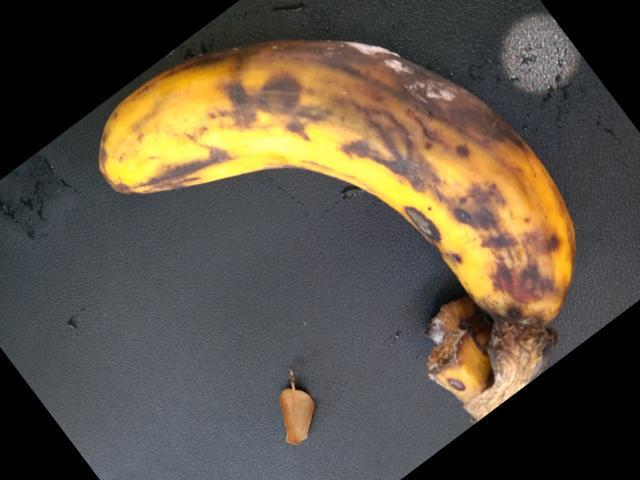overripe: (57, 63, 560, 325)
rotten: (261, 23, 498, 217)
